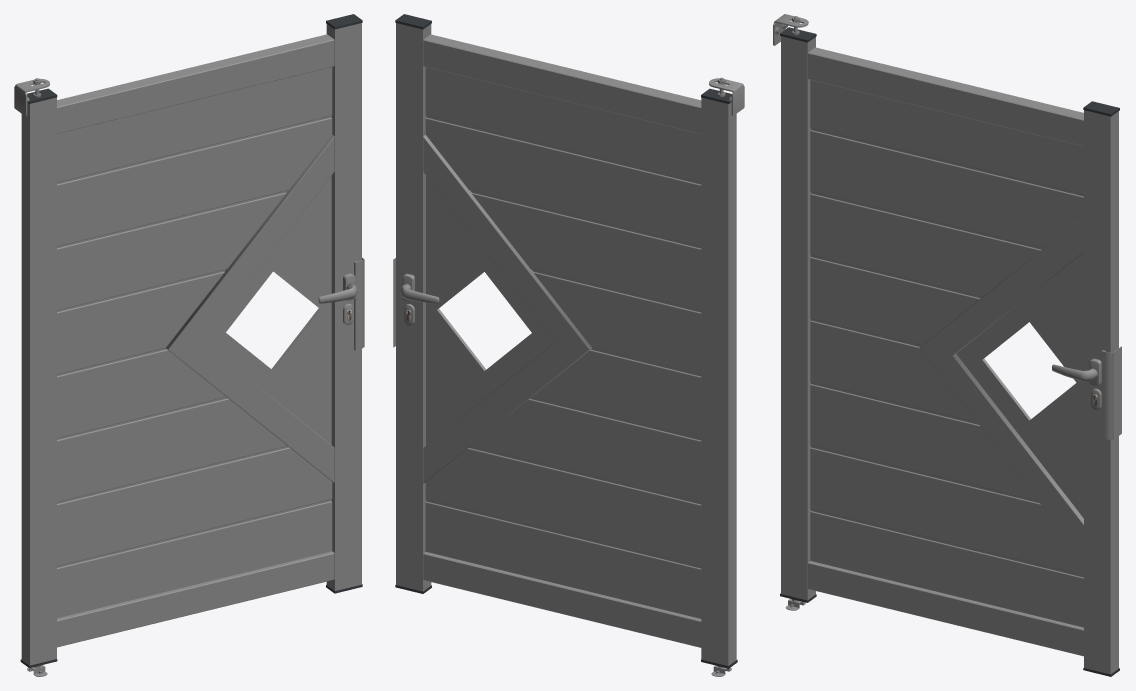
3 views of the same model, side by side, from view 1: azimuth 30°, elevation 25°; view 2: azimuth 150°, elevation 25°; view 3: azimuth 330°, elevation 25° (orthographic).
Visible parts, largest first — view 1: Shape107412643, Shape107412687, Shape107412692, Shape107412638, Shape107412693, Shape202, Rectangle102, Shape107412688, Shape107412691, Rectangle101, Shape107412285, Shape107412689 (+4 smaller); view 2: Shape107412643, Shape107412687, Shape107412692, Shape107412638, Shape107412693, Shape202, Rectangle102, Shape107412688, Shape107412691, Rectangle101, Shape107412285, Shape107412689 (+3 smaller); view 3: Shape107412638, Shape107412687, Shape107412643, Shape107412692, Shape107412693, Shape202, Shape107412688, Shape107412691, Rectangle102, Rectangle101, Shape107412285, Shape107412689 (+3 smaller).
Part boxes in pixels (x1=…): Shape107412643: x1=21, y1=97, x2=56, y2=665; Shape107412687: x1=57, y1=116, x2=332, y2=246; Shape107412692: x1=57, y1=446, x2=332, y2=566; Shape107412638: x1=326, y1=23, x2=361, y2=590; Shape107412693: x1=57, y1=499, x2=332, y2=618; Shape202: x1=57, y1=67, x2=332, y2=182; Rectangle102: x1=202, y1=176, x2=331, y2=444; Shape107412688: x1=57, y1=190, x2=287, y2=310; Shape107412691: x1=57, y1=397, x2=287, y2=502; Rectangle101: x1=166, y1=134, x2=334, y2=483; Shape107412285: x1=57, y1=34, x2=334, y2=133; Shape107412689: x1=57, y1=269, x2=225, y2=374; Shape107412643: x1=701, y1=97, x2=736, y2=665; Shape107412687: x1=425, y1=116, x2=701, y2=246; Shape107412692: x1=425, y1=446, x2=701, y2=566; Shape107412638: x1=396, y1=23, x2=431, y2=591; Shape107412693: x1=425, y1=500, x2=701, y2=618; Shape202: x1=425, y1=67, x2=701, y2=182; Rectangle102: x1=426, y1=175, x2=555, y2=445; Shape107412688: x1=470, y1=190, x2=701, y2=310; Shape107412691: x1=470, y1=397, x2=701, y2=502; Rectangle101: x1=423, y1=135, x2=592, y2=483; Shape107412285: x1=423, y1=34, x2=701, y2=133; Shape107412689: x1=532, y1=269, x2=701, y2=374; Shape107412638: x1=1084, y1=110, x2=1118, y2=674; Shape107412687: x1=810, y1=128, x2=1083, y2=248; Shape107412643: x1=781, y1=36, x2=815, y2=600; Shape107412692: x1=810, y1=446, x2=1083, y2=575; Shape107412693: x1=810, y1=509, x2=1083, y2=627; Shape202: x1=810, y1=80, x2=1083, y2=194; Shape107412688: x1=810, y1=192, x2=1043, y2=296; Shape107412691: x1=810, y1=382, x2=1037, y2=500; Rectangle102: x1=956, y1=252, x2=1083, y2=518; Rectangle101: x1=919, y1=217, x2=1083, y2=559; Shape107412285: x1=808, y1=47, x2=1083, y2=146; Shape107412689: x1=810, y1=255, x2=981, y2=345.
Bounding box in the file's own units: 1015 × 1688 × 152.
Materials: 7 (4 with a texture image).
